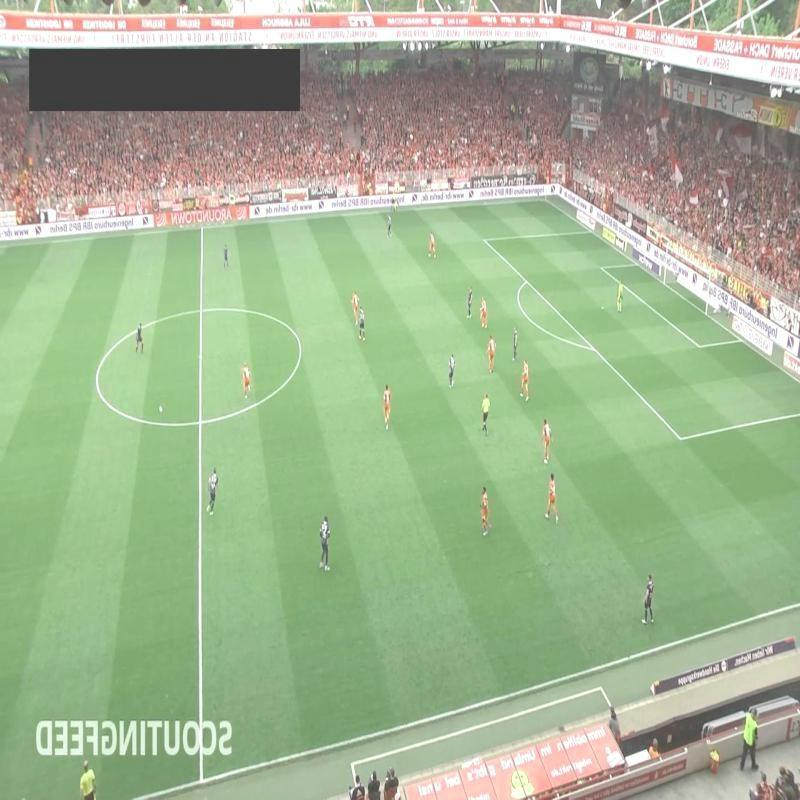1: (538, 193, 552, 207)
10: (518, 273, 534, 291)
11: (586, 340, 604, 360)
12: (672, 430, 688, 446)
13: (194, 221, 208, 235)
14: (192, 302, 208, 318)
15: (192, 414, 208, 431)
16: (190, 772, 214, 790)
2: (585, 225, 599, 239)
3: (630, 258, 644, 272)
4: (733, 332, 749, 350)
7: (592, 262, 606, 276)
8: (691, 338, 707, 356)
9: (477, 232, 491, 248)
c: (88, 366, 106, 388), (294, 343, 308, 357)
